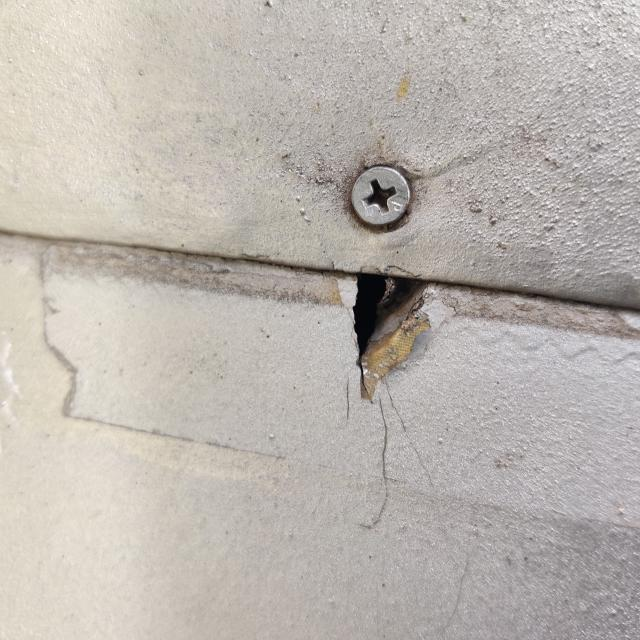crack: (305, 239, 474, 427)
